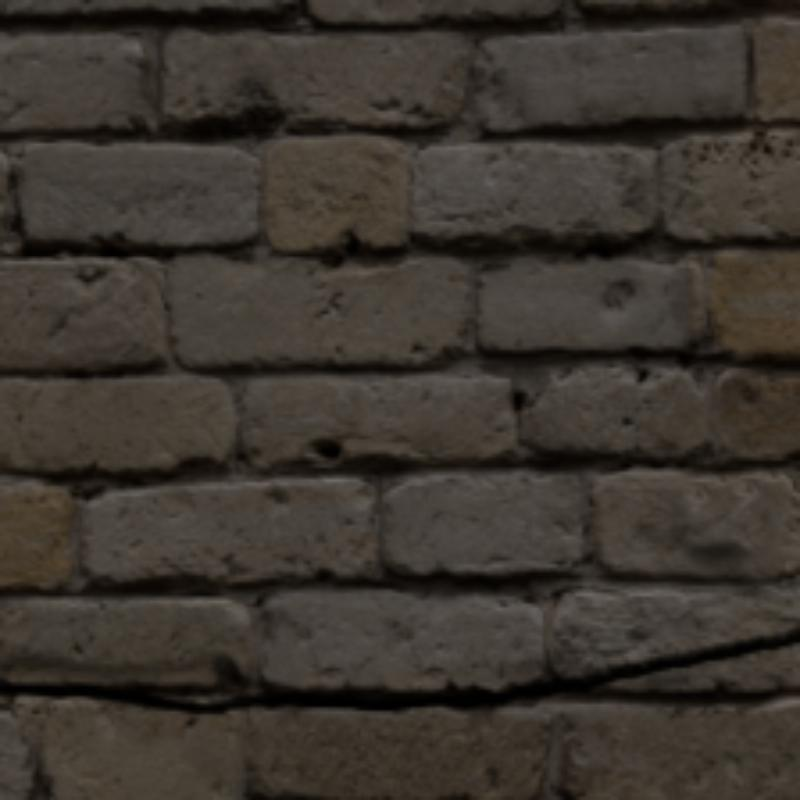crack: (0, 631, 796, 714)
